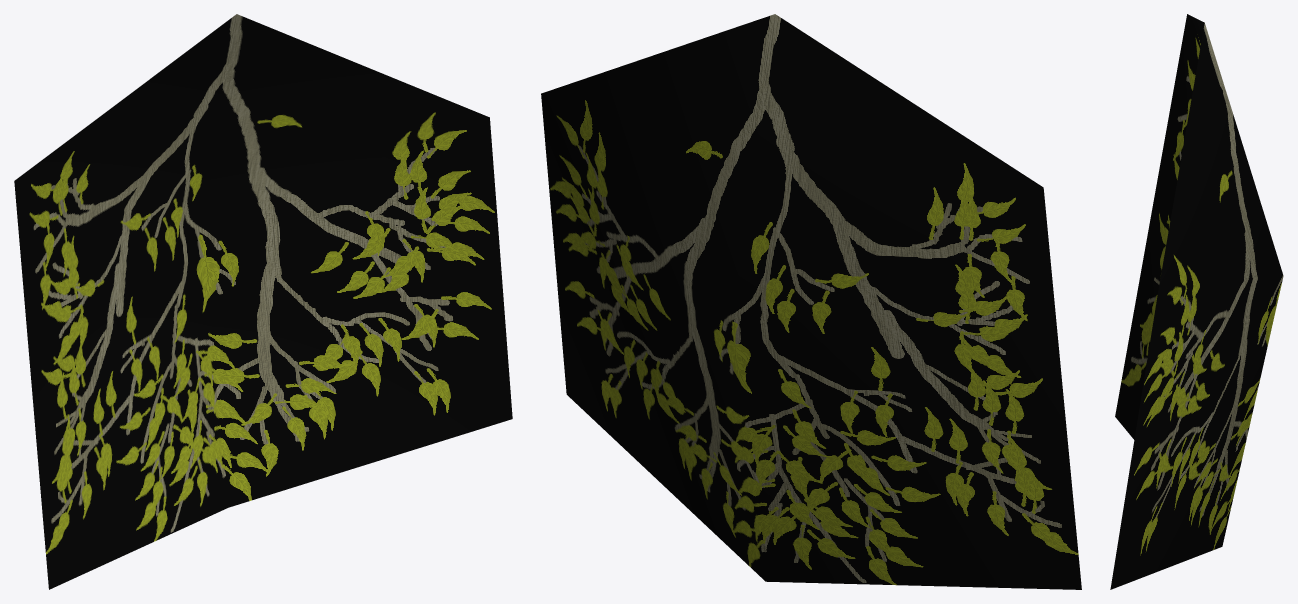
The model's file is LeafMesh7.fbx.
The picture shows the model from 3 angles, left to right: view 1: azimuth 30°, elevation 25°; view 2: azimuth 150°, elevation 25°; view 3: azimuth 270°, elevation 25°; orthographic projection. The views are drawn at different scales.
Visible parts, largest first — view 1: LeafMesh1; view 2: LeafMesh1; view 3: LeafMesh1.
Boxes of the visible parts, <box> form: LeafMesh1: <box>14,14,512,589</box>; LeafMesh1: <box>541,14,1081,589</box>; LeafMesh1: <box>1110,14,1283,589</box>.
Size of the model in its own units: 2 by 2.07 by 0.6195.
